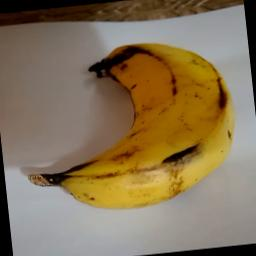Banana Unripe: (14, 30, 244, 222)
